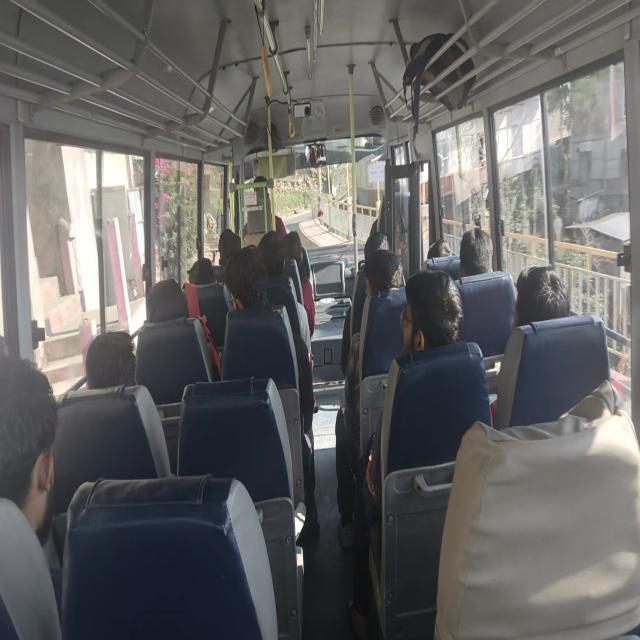person: (0, 359, 68, 524), (401, 267, 459, 354), (230, 257, 276, 343), (515, 262, 565, 340), (453, 222, 501, 282), (93, 323, 137, 385), (150, 278, 186, 338), (368, 255, 404, 308), (258, 229, 290, 279), (281, 222, 313, 260), (220, 222, 244, 265), (187, 250, 213, 288), (361, 227, 386, 256), (426, 234, 454, 258)
